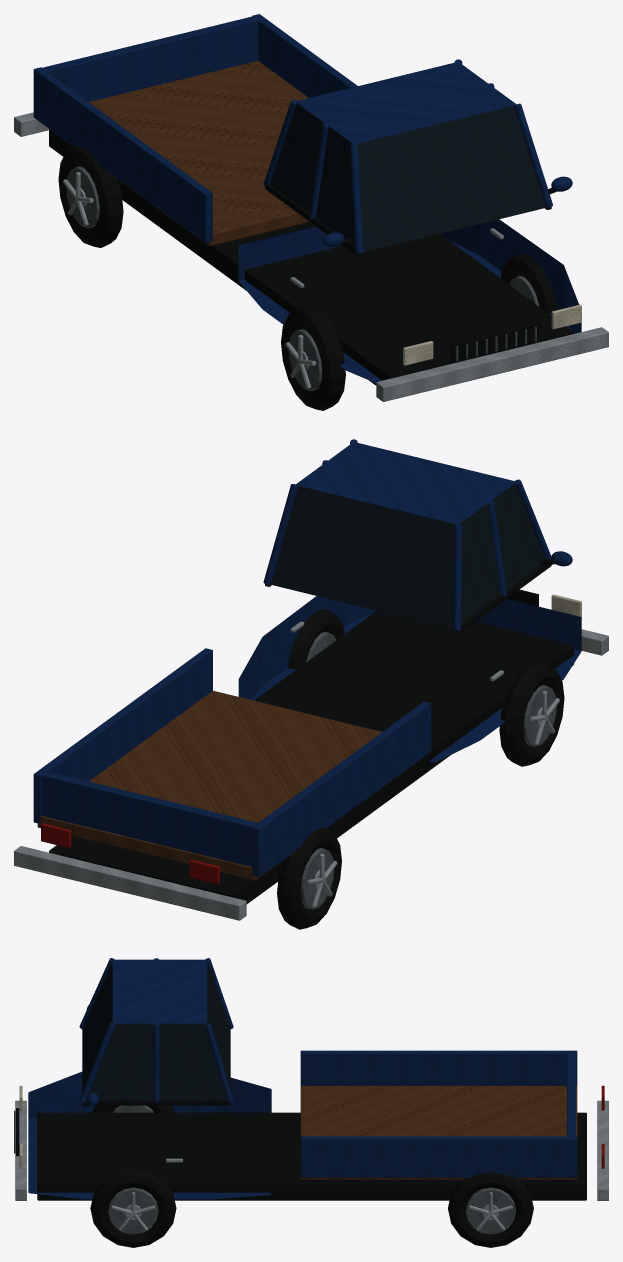
The model's file is PROP-54B144E9C32A_lod0.glb.
The picture shows the model from 3 angles, top to bottom: view 1: azimuth 30°, elevation 25°; view 2: azimuth 150°, elevation 25°; view 3: azimuth 270°, elevation 25°; orthographic projection. The views are drawn at different scales.
Parts seen in each view (by area): view 1: chassis.016, sloped_cabin_glazing.016, bed_deck, bed_sides, roof_panel.014, tailgate, tire.016, shaped_body_panels.016, bumper.016, window_pillars.016, rim.016, radiator_grille.016 (+4 smaller); view 2: chassis.016, sloped_cabin_glazing.016, bed_deck, bed_sides, tailgate, roof_panel.014, tire.016, shaped_body_panels.016, bumper.016, window_pillars.016, rim.016, lamp_lenses.033 (+2 smaller); view 3: chassis.016, bed_sides, bed_deck, sloped_cabin_glazing.016, tire.016, roof_panel.014, shaped_body_panels.016, rim.016, window_pillars.016, bumper.016, rim_spokes.016, window_belt.016 (+1 smaller).
Boxes of the visible parts, box(x1,y1,x2,y2) form: chassis.016: box(49, 129, 573, 385); sloped_cabin_glazing.016: box(270, 102, 546, 252); bed_deck: box(39, 61, 309, 246); bed_sides: box(33, 14, 357, 242); roof_panel.014: box(295, 61, 516, 144); tailgate: box(41, 16, 258, 101); tire.016: box(58, 146, 557, 410); shaped_body_panels.016: box(238, 219, 581, 382); bumper.016: box(14, 112, 608, 401); window_pillars.016: box(263, 59, 552, 253); rim.016: box(66, 166, 539, 390); radiator_grille.016: box(450, 323, 538, 362); chassis.016: box(49, 610, 573, 904); sloped_cabin_glazing.016: box(270, 482, 545, 628); bed_deck: box(37, 690, 426, 880); bed_sides: box(33, 648, 431, 877); tailgate: box(39, 771, 257, 866); roof_panel.014: box(295, 442, 516, 524); tire.016: box(277, 608, 564, 929); shaped_body_panels.016: box(238, 596, 581, 762); bumper.016: box(14, 629, 608, 920); window_pillars.016: box(263, 439, 551, 630); rim.016: box(300, 631, 556, 909); lamp_lenses.033: box(41, 823, 219, 884); chassis.016: box(37, 1112, 586, 1200); bed_sides: box(300, 1050, 577, 1177); bed_deck: box(300, 1086, 577, 1179); sloped_cabin_glazing.016: box(82, 961, 230, 1099); tire.016: box(90, 1105, 533, 1247); roof_panel.014: box(112, 959, 207, 1023); shaped_body_panels.016: box(28, 1071, 271, 1199); rim.016: box(108, 1105, 515, 1234); window_pillars.016: box(79, 958, 233, 1103); bumper.016: box(15, 1100, 608, 1200); rim_spokes.016: box(111, 1192, 512, 1231); window_belt.016: box(82, 1100, 230, 1105).
Bounding box in the file's own units: 2.56 × 2.62 × 6.61.
Materials: 9 (9 with a texture image).
